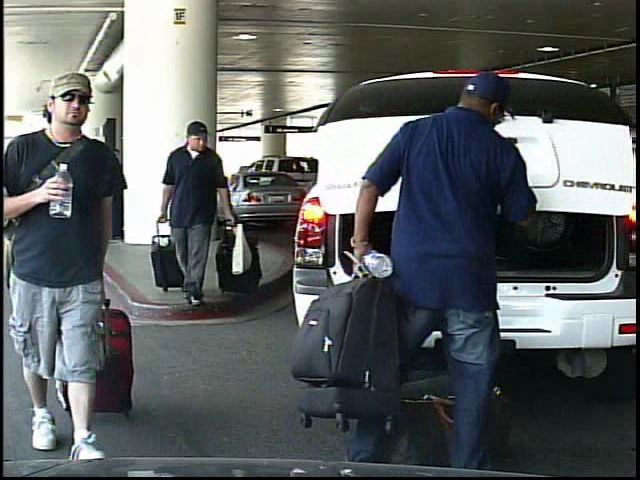person: (347, 74, 536, 475), (4, 67, 158, 474), (156, 115, 253, 308)
